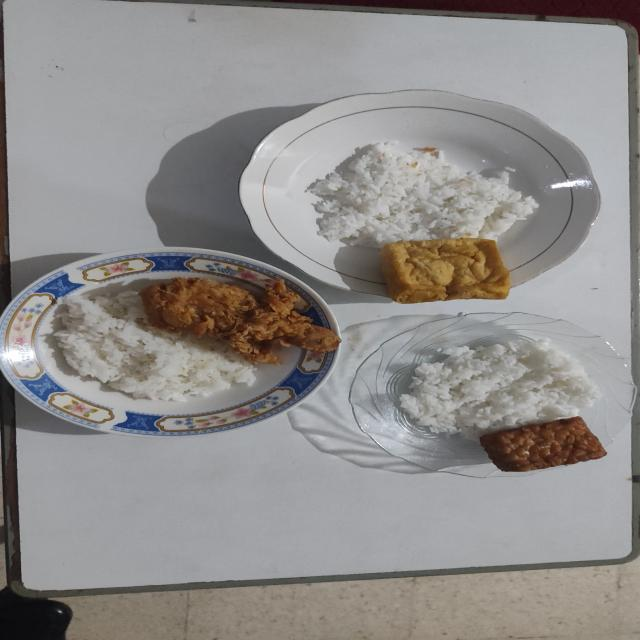nasi_putih: (308, 142, 538, 247), (48, 290, 256, 401), (400, 340, 599, 437)
tahu_goreng: (381, 238, 510, 304)
tempe_goreng: (479, 416, 606, 472)
